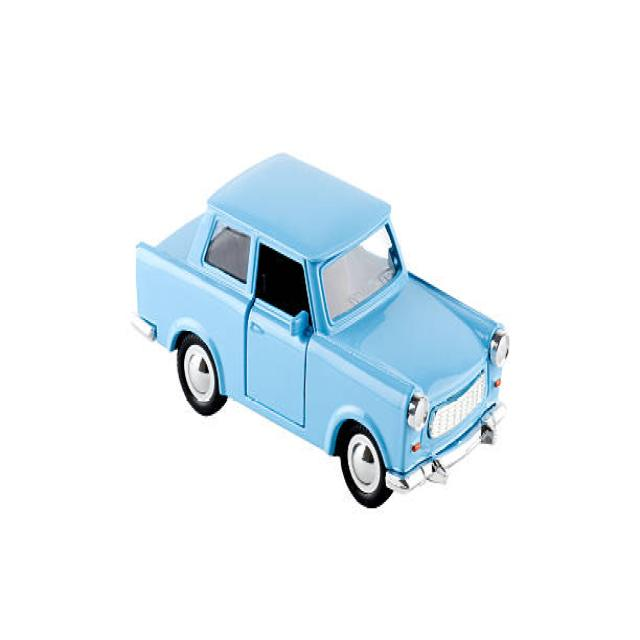Car: (130, 149, 509, 508)
